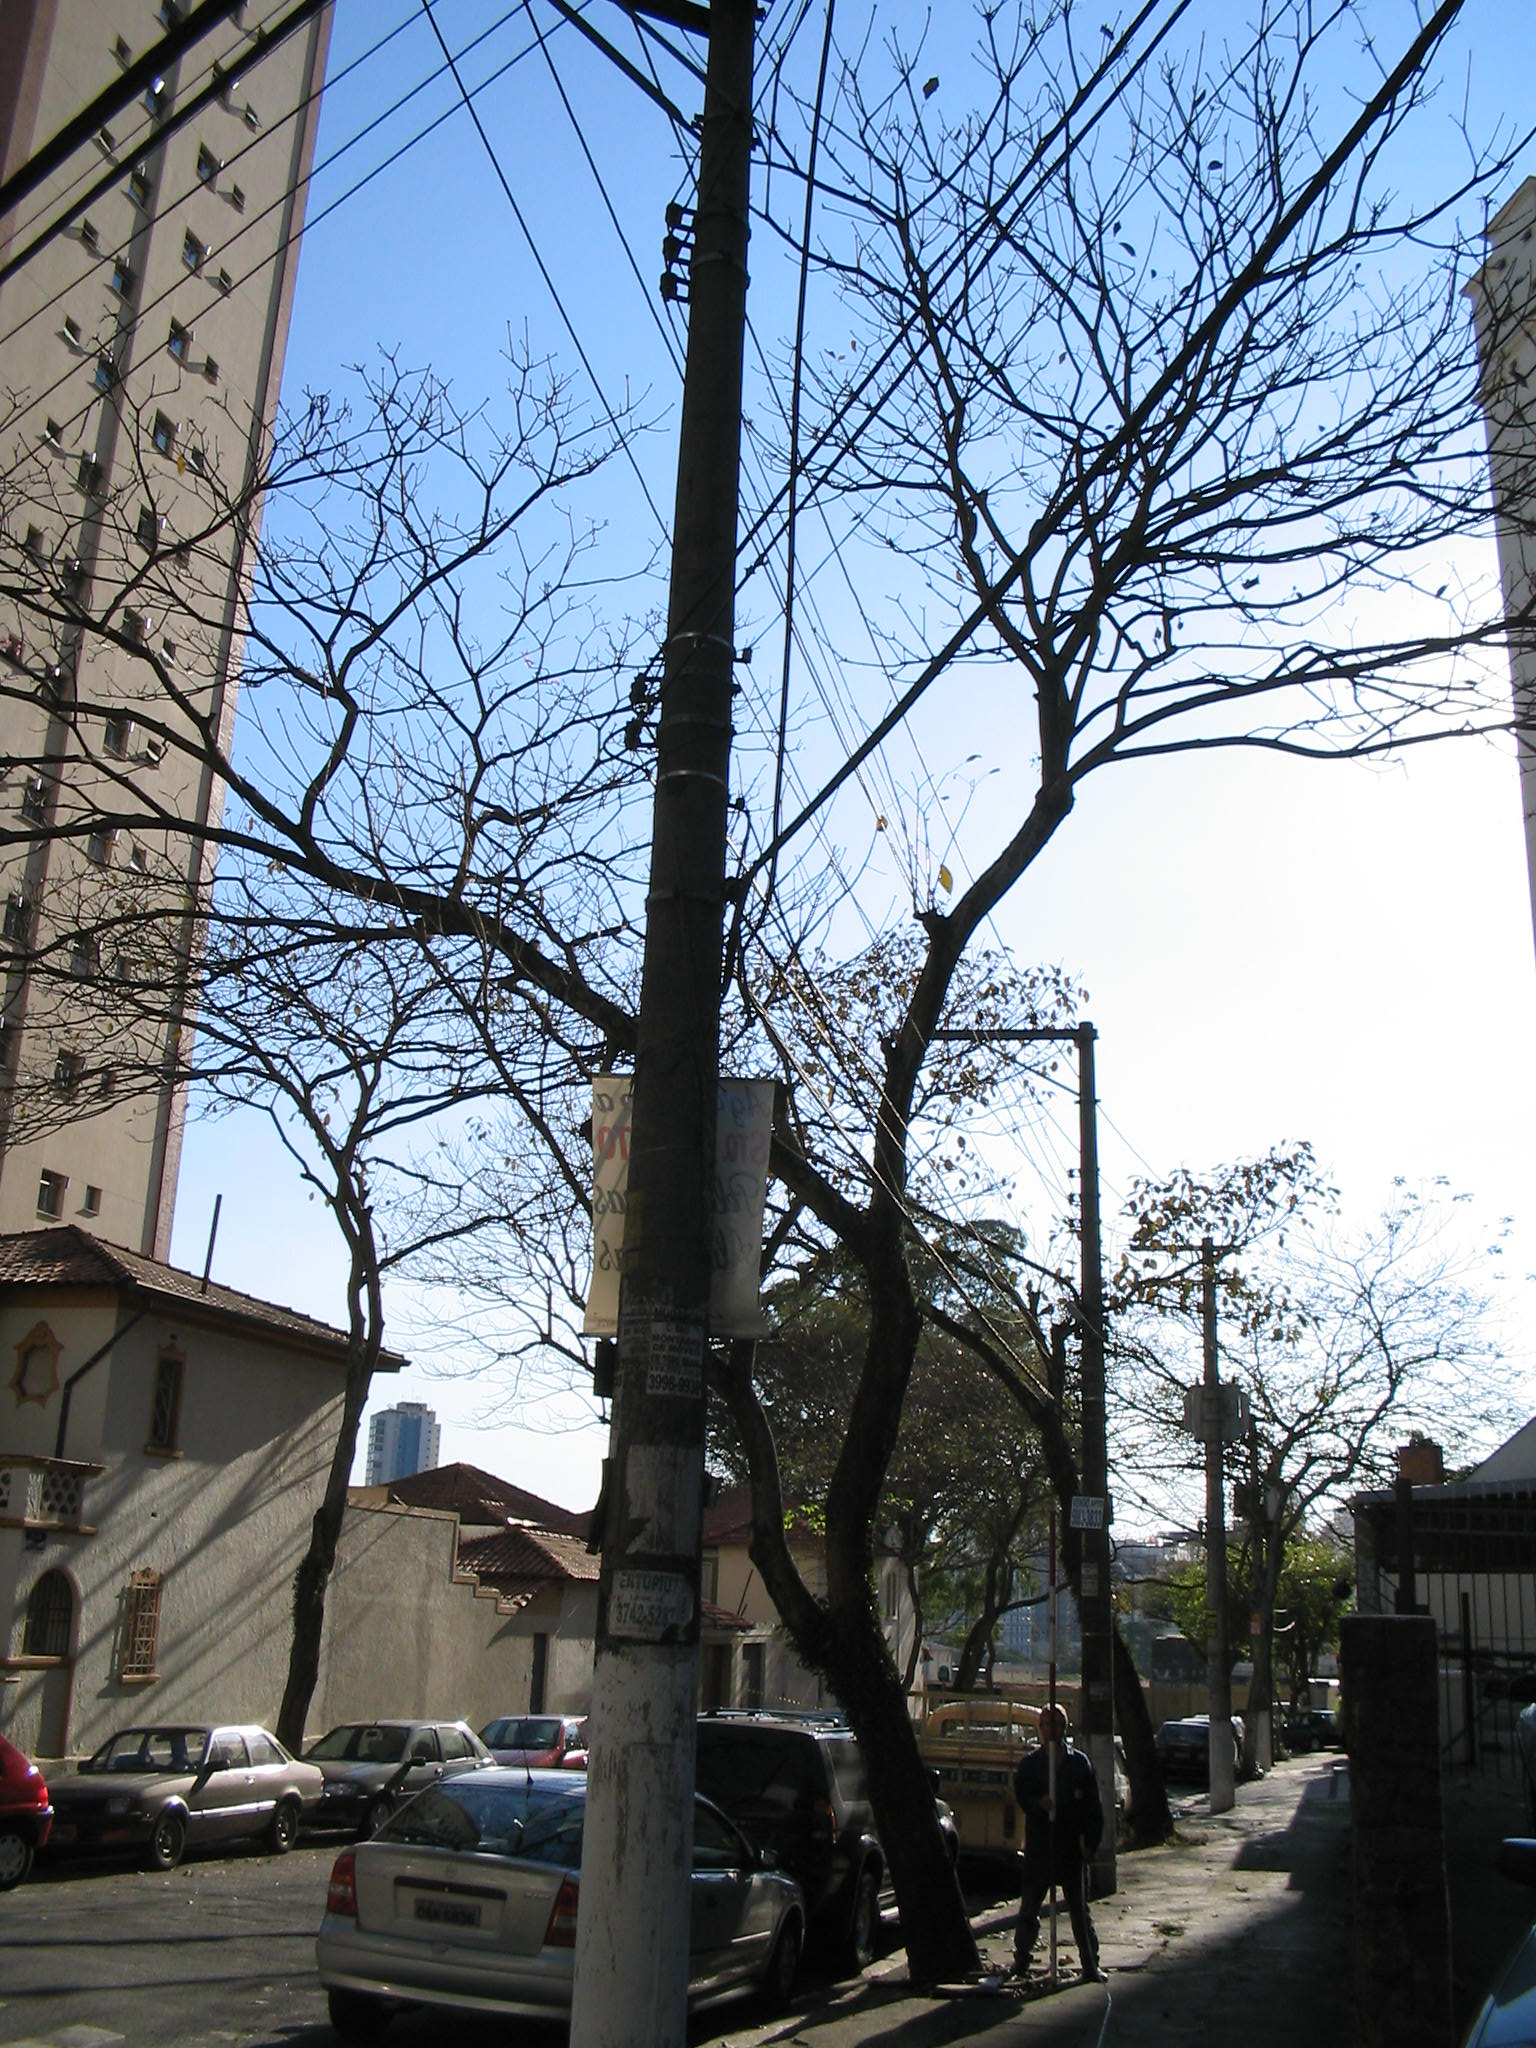stem: (792, 1646, 1012, 1983)
stick: (1037, 1508, 1083, 1983)
tree: (10, 13, 1534, 1990)
